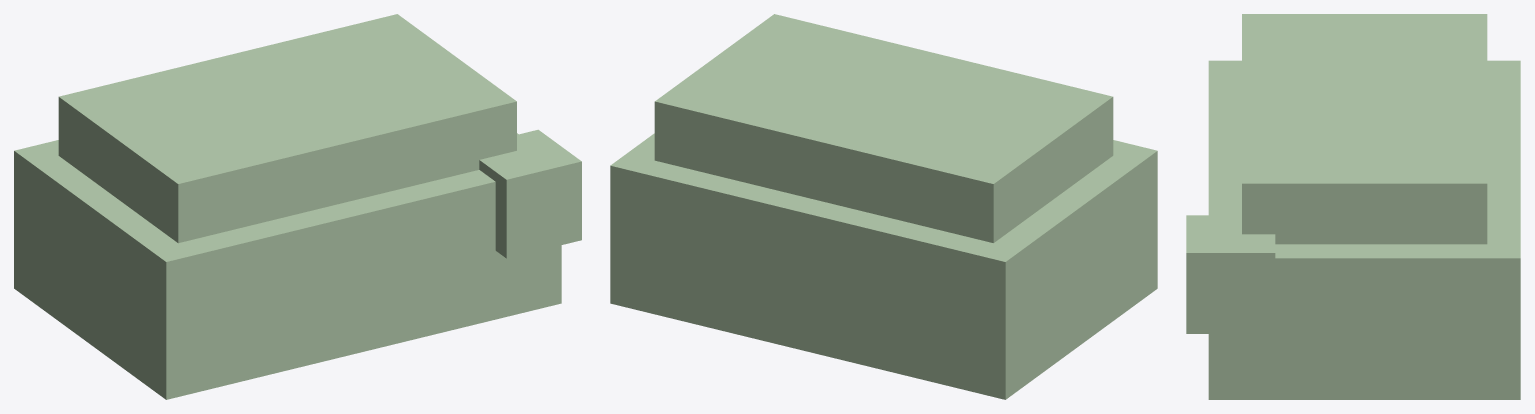
Rendered from product_steamed_portion.glb.
The picture shows the model from 3 angles, left to right: view 1: azimuth 30°, elevation 25°; view 2: azimuth 150°, elevation 25°; view 3: azimuth 270°, elevation 25°; orthographic projection. The views are drawn at different scales.
Visible parts, largest first — view 1: product.steamed_portion; view 2: product.steamed_portion; view 3: product.steamed_portion.
Part boxes in pixels (bbox=[...]): product.steamed_portion: bbox=[14, 14, 581, 399]; product.steamed_portion: bbox=[610, 14, 1157, 399]; product.steamed_portion: bbox=[1186, 14, 1520, 399].
Size of the model in its own units: 0.24 by 0.1116 by 0.1674.
